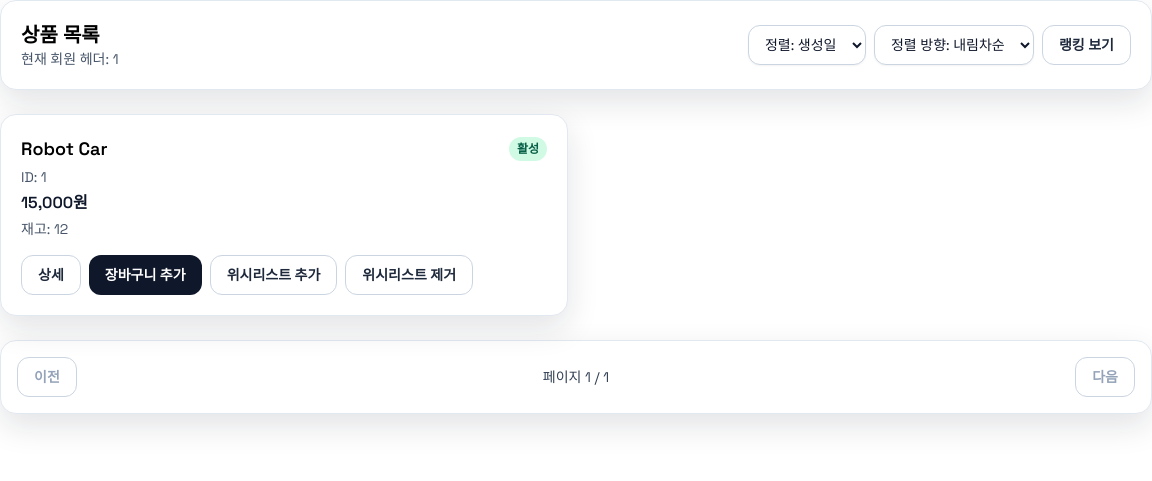
Scenario: HomePage › loads products and adds item to cart
expect the heading "Robot Car" is shown: met, box [21, 135, 108, 163]
Click the button "장바구니 추가" at (145, 275), box [89, 255, 202, 295]
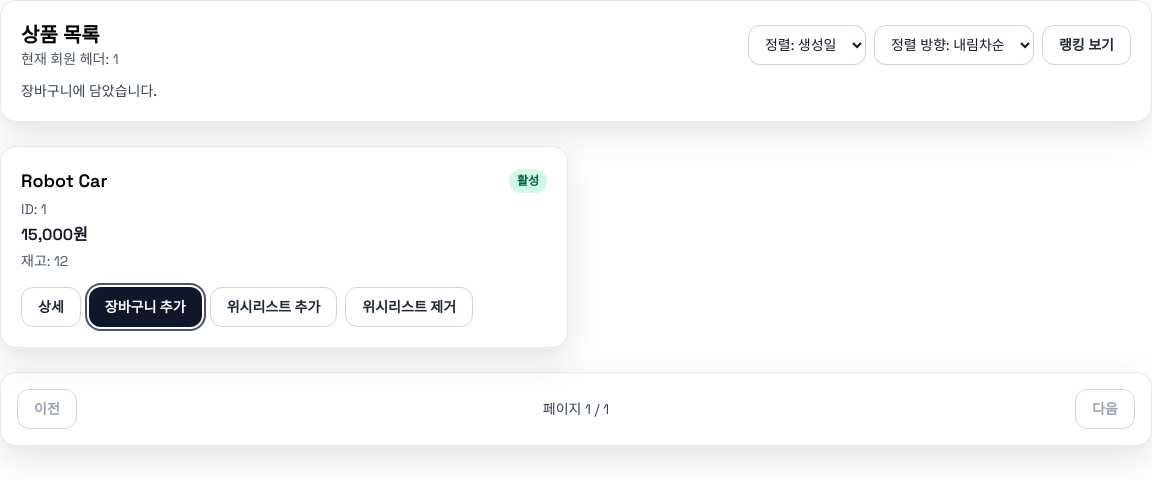
expect the text "장바구니에 담았습니다." is shown: met, box [21, 82, 157, 100]
